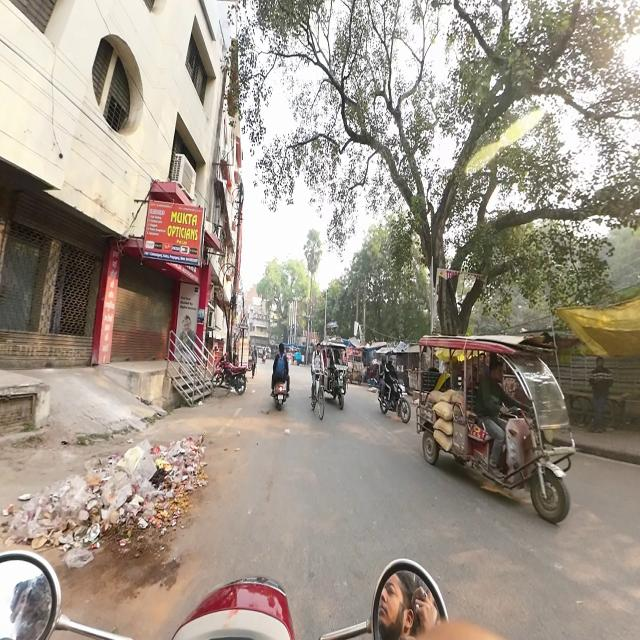Garbage: (96, 449, 160, 533), (17, 484, 102, 547), (159, 434, 201, 504)
